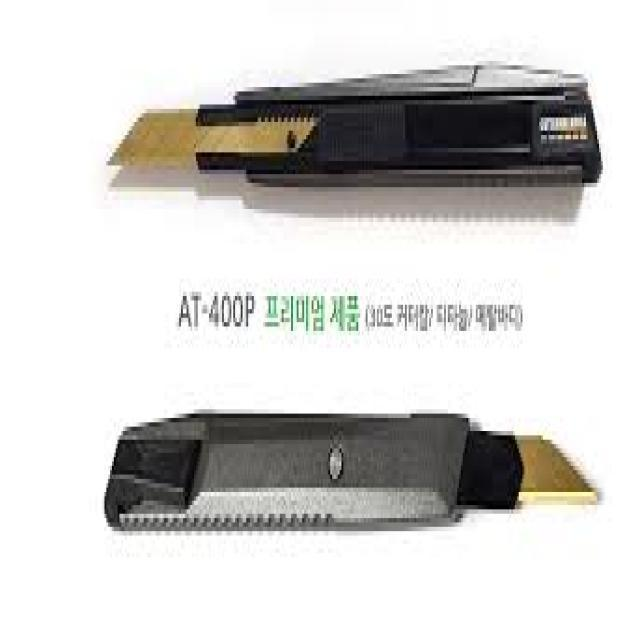cutter: (104, 54, 606, 250), (99, 402, 606, 548)
